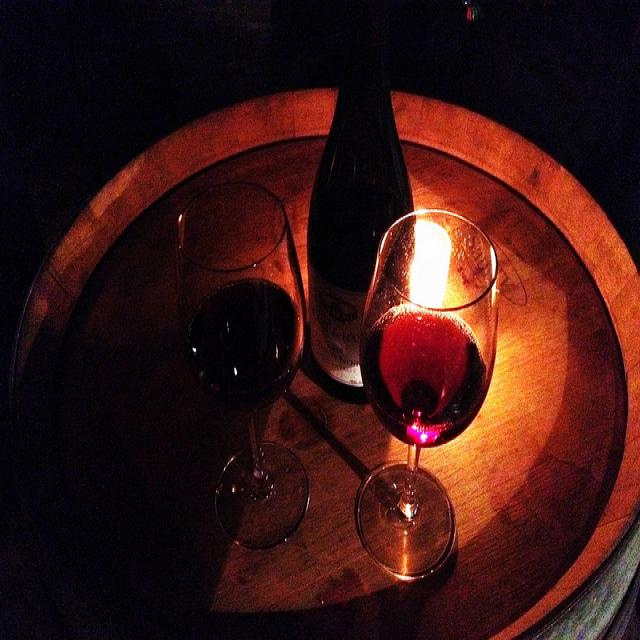Bottle: (298, 5, 420, 406)
Cup: (164, 184, 327, 555), (361, 196, 509, 585)
